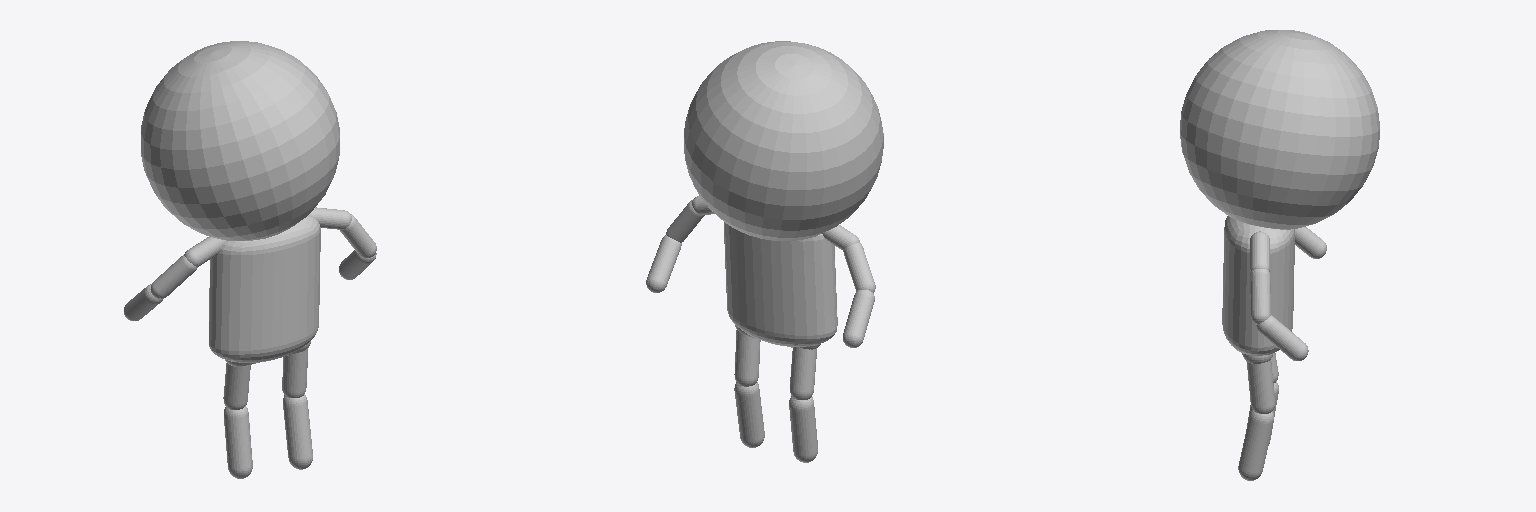
File: Stickman_000077.obj
The picture shows the model from 3 angles: view 1: azimuth 30°, elevation 25°; view 2: azimuth 150°, elevation 25°; view 3: azimuth 270°, elevation 25°; orthographic projection.
Visible parts, largest first — view 1: Head_Sphere.001, Body_Roundcube.002, LowerLegLeft_Roundcube.013, LowerLegRight_Roundcube.011, UpperLegLeft_Roundcube.012, UpperLegRight_Roundcube.010, UpperArmRight_Roundcube.015, UpperArmLeft_Roundcube.018, LowerArmRight_Roundcube.016, ShoulderRight_Roundcube.014, ShoulderLeft_Roundcube.017, LowerArmLeft_Roundcube.019; view 2: Head_Sphere.001, Body_Roundcube.002, LowerLegRight_Roundcube.011, LowerLegLeft_Roundcube.013, UpperLegRight_Roundcube.010, LowerArmRight_Roundcube.016, UpperLegLeft_Roundcube.012, LowerArmLeft_Roundcube.019, UpperArmRight_Roundcube.015, UpperArmLeft_Roundcube.018, ShoulderRight_Roundcube.014; view 3: Head_Sphere.001, Body_Roundcube.002, LowerLegLeft_Roundcube.013, UpperLegLeft_Roundcube.012, LowerArmLeft_Roundcube.019, UpperArmLeft_Roundcube.018, ShoulderLeft_Roundcube.017, LowerArmRight_Roundcube.016.
Boxes of the visible parts, <box> form: Head_Sphere.001: <box>141,41,339,240</box>; Body_Roundcube.002: <box>209,215,320,362</box>; LowerLegLeft_Roundcube.013: <box>283,394,312,469</box>; LowerLegRight_Roundcube.011: <box>224,406,252,478</box>; UpperLegLeft_Roundcube.012: <box>282,347,308,397</box>; UpperLegRight_Roundcube.010: <box>223,363,250,409</box>; UpperArmRight_Roundcube.015: <box>150,255,197,298</box>; UpperArmLeft_Roundcube.018: <box>340,214,376,258</box>; LowerArmRight_Roundcube.016: <box>124,284,162,320</box>; ShoulderRight_Roundcube.014: <box>184,236,225,266</box>; ShoulderLeft_Roundcube.017: <box>309,207,351,229</box>; LowerArmLeft_Roundcube.019: <box>339,250,376,279</box>; Head_Sphere.001: <box>684,41,883,240</box>; Body_Roundcube.002: <box>724,222,837,346</box>; LowerLegRight_Roundcube.011: <box>789,396,817,462</box>; LowerLegLeft_Roundcube.013: <box>734,382,764,447</box>; UpperLegRight_Roundcube.010: <box>790,347,816,399</box>; LowerArmRight_Roundcube.016: <box>843,290,874,347</box>; UpperLegLeft_Roundcube.012: <box>734,330,760,386</box>; LowerArmLeft_Roundcube.019: <box>646,235,681,292</box>; UpperArmRight_Roundcube.015: <box>843,242,875,292</box>; UpperArmLeft_Roundcube.018: <box>666,199,704,242</box>; ShoulderRight_Roundcube.014: <box>822,225,859,249</box>; Head_Sphere.001: <box>1180,30,1379,229</box>; Body_Roundcube.002: <box>1222,216,1294,355</box>; LowerLegLeft_Roundcube.013: <box>1238,409,1273,480</box>; UpperLegLeft_Roundcube.012: <box>1247,360,1274,413</box>; LowerArmLeft_Roundcube.019: <box>1256,315,1308,360</box>; UpperArmLeft_Roundcube.018: <box>1250,269,1270,324</box>; ShoulderLeft_Roundcube.017: <box>1250,231,1269,271</box>; LowerArmRight_Roundcube.016: <box>1295,227,1326,258</box>.
Bounding box in the file's own units: 7.37 × 13.09 × 5.69.